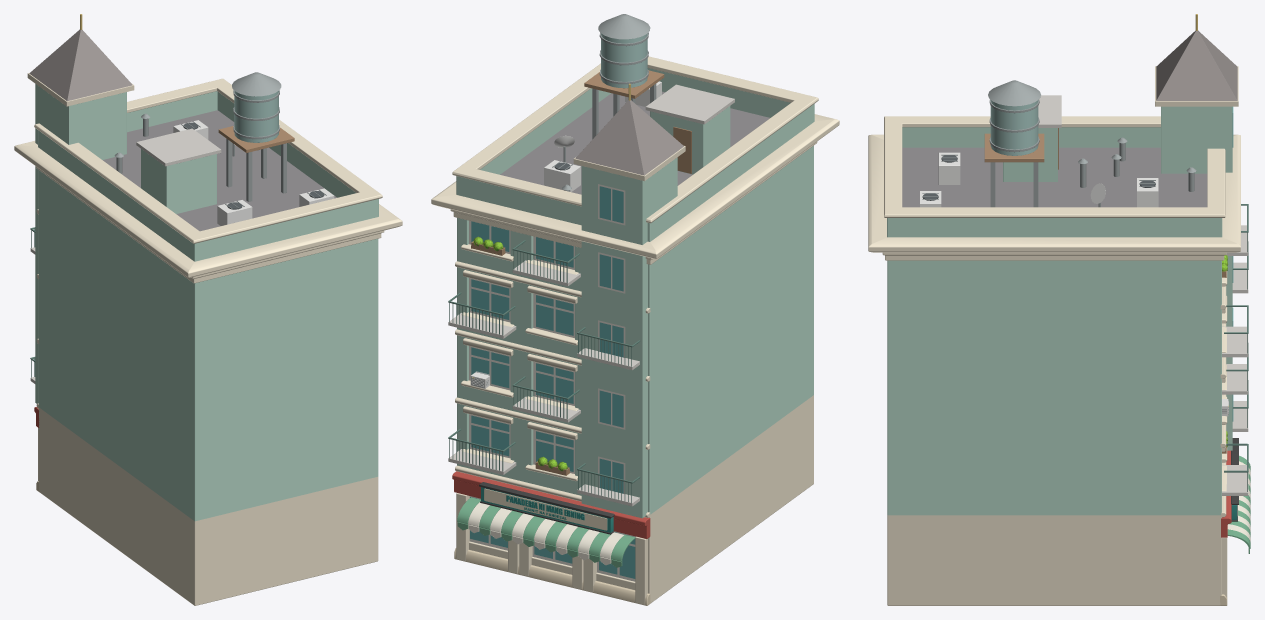
The model's file is shophouse_mint_4.glb.
The picture shows the model from 3 angles, left to right: view 1: azimuth 30°, elevation 25°; view 2: azimuth 150°, elevation 25°; view 3: azimuth 270°, elevation 25°; orthographic projection. The views are drawn at different scales.
Visible parts, largest first — view 1: shell, trim, props; view 2: shell, props, trim, frames, awnings, sign_panaderia_ni_mang_erning, sign_panaderia_ni_mang_erning_text; view 3: shell, trim, props, awnings.
Boxes of the visible parts, bbox=[...] form: shell: bbox=[38, 110, 378, 605]; trim: bbox=[14, 78, 402, 492]; props: bbox=[27, 14, 334, 403]; shell: bbox=[457, 91, 813, 602]; props: bbox=[448, 14, 734, 518]; trim: bbox=[431, 56, 839, 605]; frames: bbox=[469, 184, 635, 581]; awnings: bbox=[457, 497, 635, 567]; sign_panaderia_ni_mang_erning: bbox=[479, 482, 614, 534]; sign_panaderia_ni_mang_erning_text: bbox=[506, 495, 584, 520]; shell: bbox=[887, 147, 1221, 605]; trim: bbox=[868, 116, 1240, 605]; props: bbox=[920, 14, 1248, 495]; awnings: bbox=[1227, 455, 1250, 553].
Bounding box in the file's own units: 11.1 × 23.65 × 16.
Materials: 26 (2 with a texture image).
